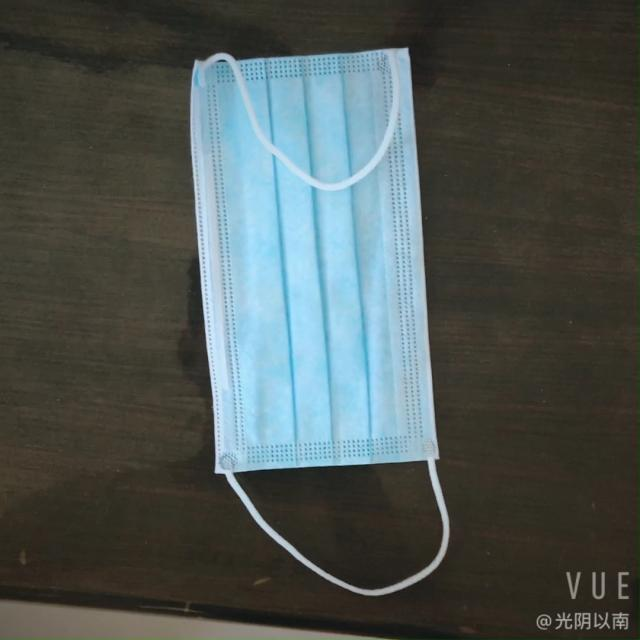non-organic waste: (184, 45, 448, 471)
